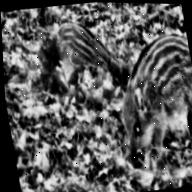boar: (104, 28, 192, 171), (31, 7, 132, 104)
